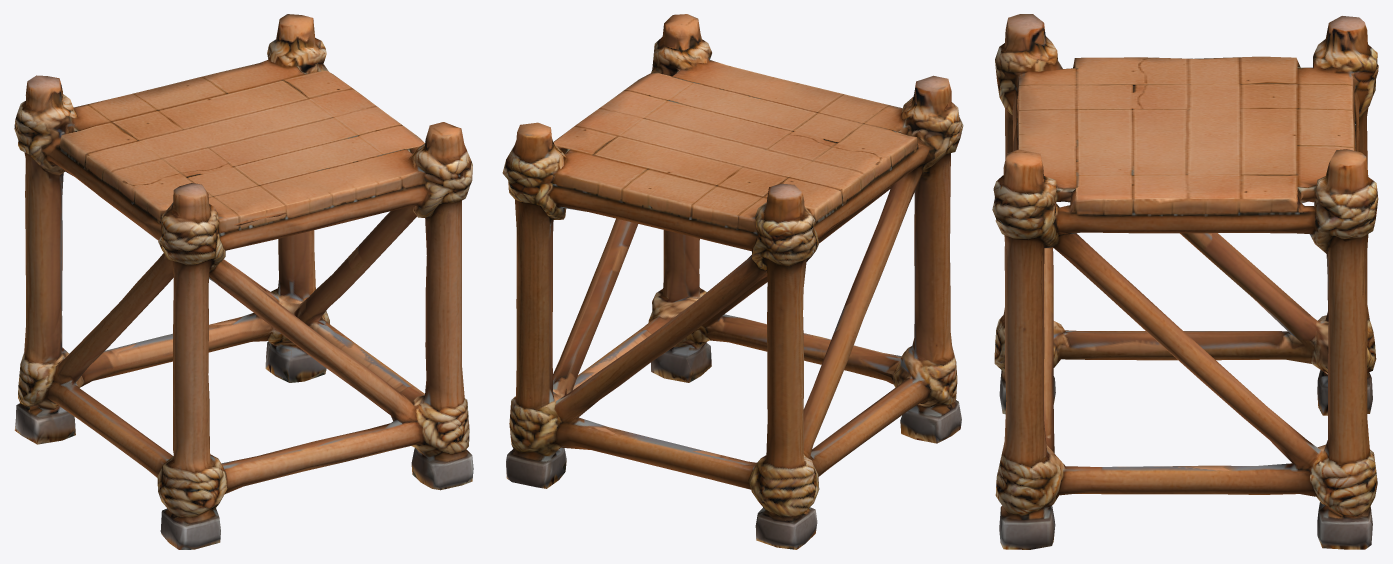
The model's file is Platform.glb.
3 views of the same model, side by side, from view 1: azimuth 30°, elevation 25°; view 2: azimuth 150°, elevation 25°; view 3: azimuth 270°, elevation 25° (orthographic). The views are drawn at different scales.
Visible parts, largest first — view 1: input; view 2: input; view 3: input.
Boxes of the visible parts, left/top/right/bottom form: input: left=14, top=14, right=473, bottom=549; input: left=502, top=14, right=963, bottom=549; input: left=992, top=14, right=1378, bottom=549.
Bounding box in the file's own units: 0.9126 × 1.01 × 0.9174.
1 material, 1 textured.
